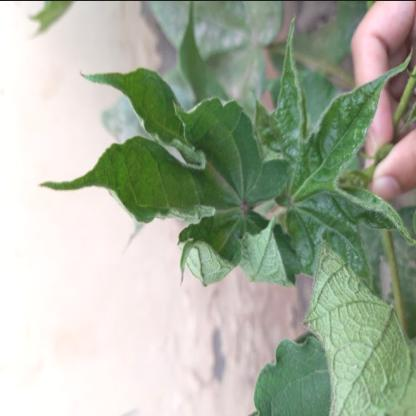curl_stage2: (328, 272, 396, 412), (279, 135, 347, 243), (132, 103, 205, 187), (187, 226, 277, 292)
healthy: (279, 373, 323, 415), (225, 146, 251, 204)
